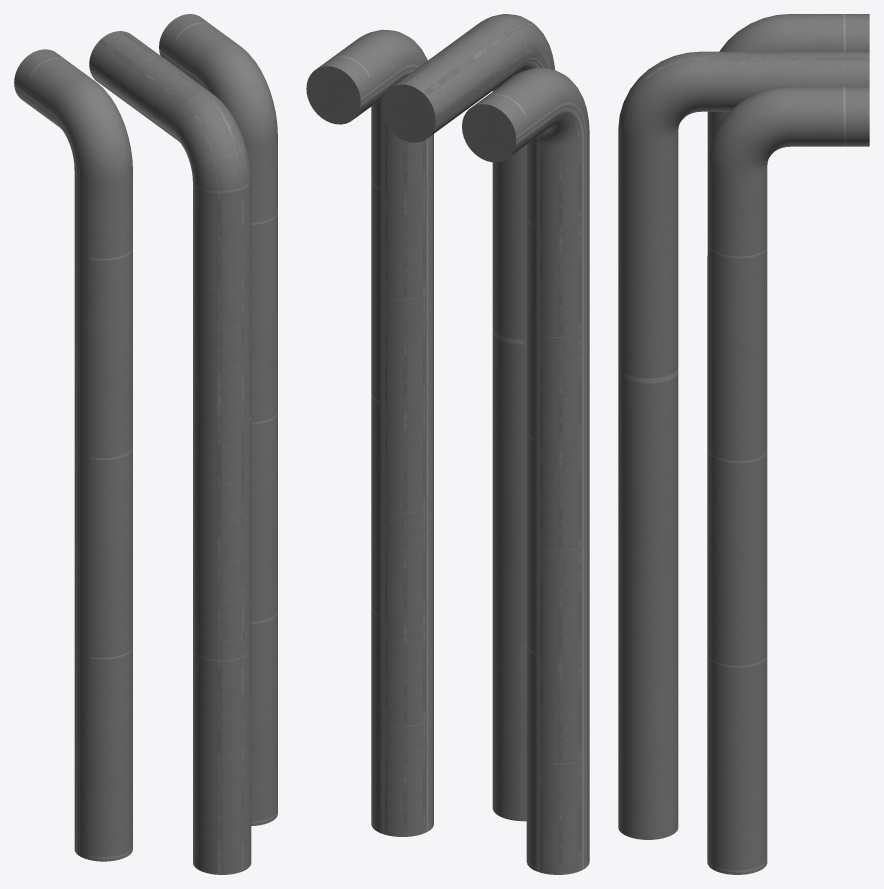
File: SM_pipe_03.glb
3 renders of one model, left to right at view 1: azimuth 30°, elevation 25°; view 2: azimuth 150°, elevation 25°; view 3: azimuth 270°, elevation 25°, orthographic. The views are drawn at different scales.
Visible parts, largest first — view 1: SM_pipe_03; view 2: SM_pipe_03; view 3: SM_pipe_03.
Part boxes in pixels (x1,y1,x2,y2): SM_pipe_03: [14, 14, 277, 874]; SM_pipe_03: [306, 14, 589, 874]; SM_pipe_03: [618, 14, 869, 874].
Bounding box in the file's own units: 1.23 × 4.54 × 1.34.
1 material, 1 textured.
